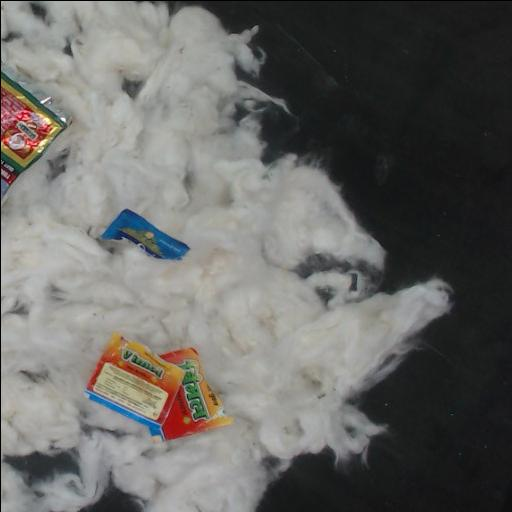conveyor belt: (178, 1, 512, 512), (9, 453, 75, 479), (82, 485, 139, 512)
cotton: (1, 1, 451, 512)
packet: (85, 335, 231, 440), (1, 69, 67, 203), (101, 209, 188, 259)
